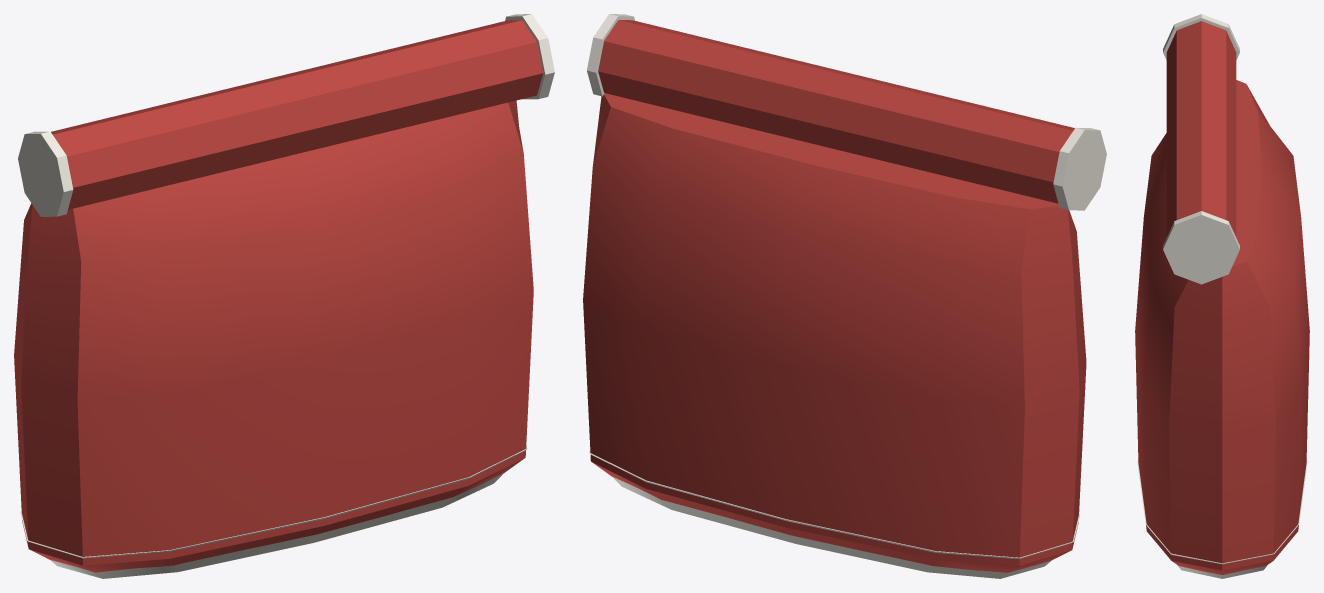
Rendered from roll_pannier_lod1.glb.
3 views of the same model, side by side, from view 1: azimuth 30°, elevation 25°; view 2: azimuth 150°, elevation 25°; view 3: azimuth 270°, elevation 25° (orthographic). The views are drawn at different scales.
Visible parts, largest first — view 1: roll_pannier_lod1; view 2: roll_pannier_lod1; view 3: roll_pannier_lod1.
Boxes of the visible parts, box(x1,y1,x2,y2) form: roll_pannier_lod1: box(14, 14, 554, 578); roll_pannier_lod1: box(583, 14, 1106, 578); roll_pannier_lod1: box(1135, 14, 1309, 578).
Size of the model in its own units: 0.42 by 0.356 by 0.15.
